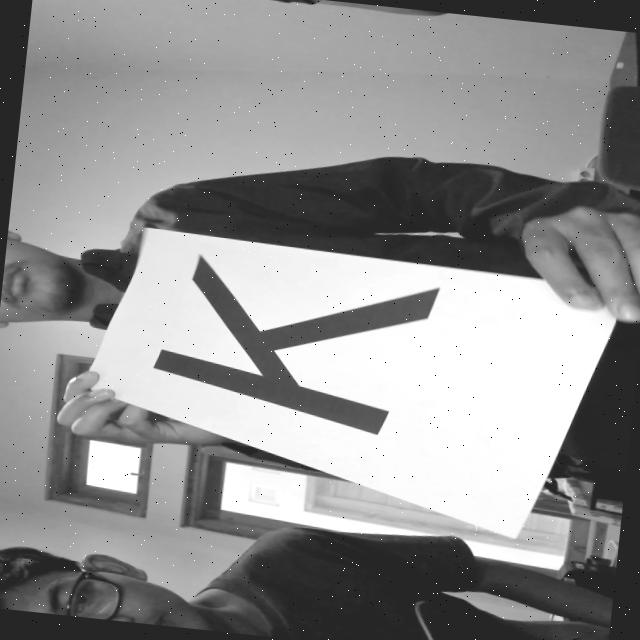k: (140, 243, 468, 447)
